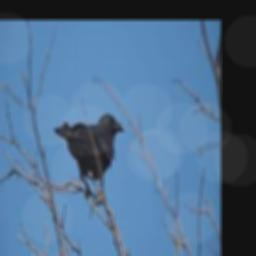Crow: (55, 112, 126, 198)
